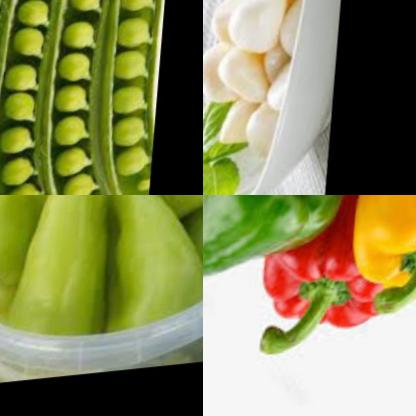bell pepper: (255, 195, 391, 360), (10, 195, 126, 351), (98, 195, 203, 336), (203, 195, 362, 284), (0, 195, 97, 287), (355, 195, 416, 322), (177, 195, 203, 290)
garlic: (203, 0, 330, 158)
peas: (62, 0, 131, 195), (121, 0, 175, 195), (13, 0, 63, 195)
